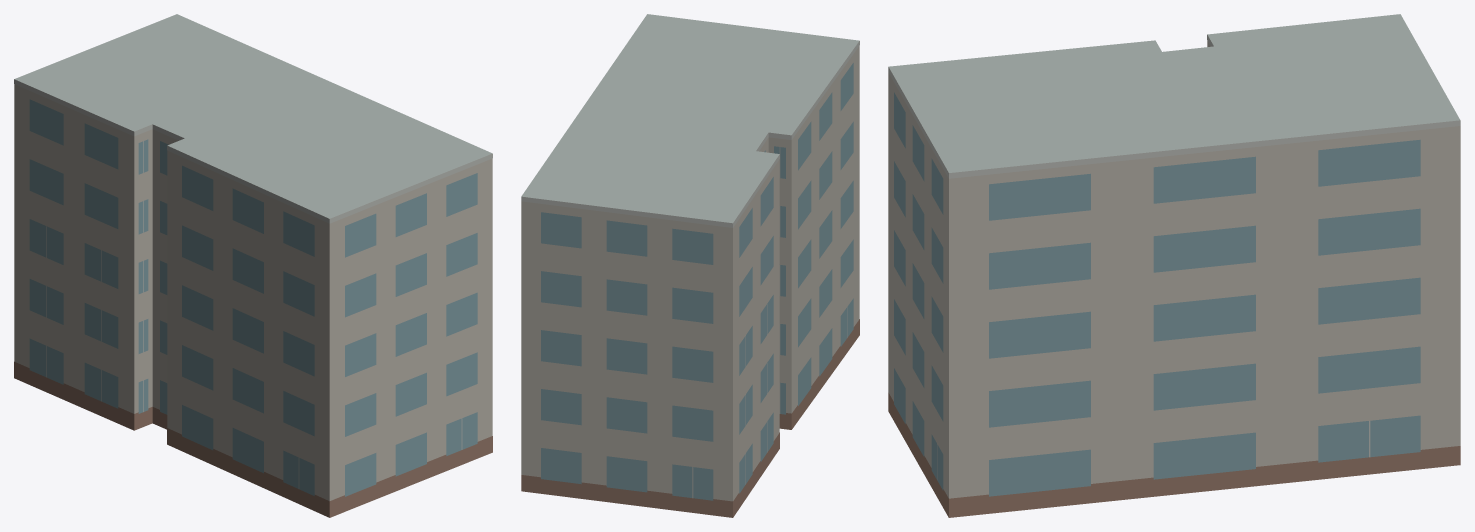
File: survey-upis-32601701.glb
3 renders of one model, left to right at view 1: azimuth 30°, elevation 25°; view 2: azimuth 150°, elevation 25°; view 3: azimuth 270°, elevation 25°, orthographic. The views are drawn at different scales.
Visible parts, largest first — view 1: survey-upis-32601701.tmp; view 2: survey-upis-32601701.tmp; view 3: survey-upis-32601701.tmp.
Part boxes in pixels (box(x1,y1,x2,y2)): survey-upis-32601701.tmp: box(14, 14, 492, 517); survey-upis-32601701.tmp: box(521, 14, 859, 517); survey-upis-32601701.tmp: box(888, 14, 1460, 517).
Size of the model in its own units: 14.86 by 15 by 22.57.
